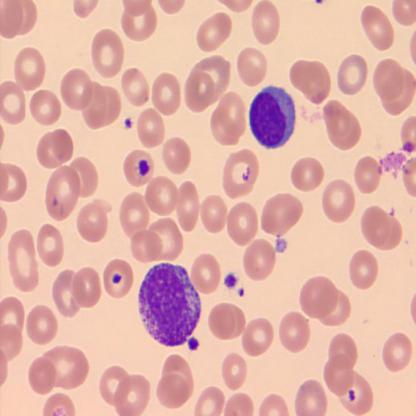Myelocyte: (138, 262, 204, 345)
